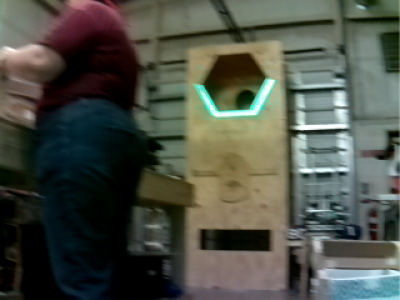target: (194, 78, 278, 117)
